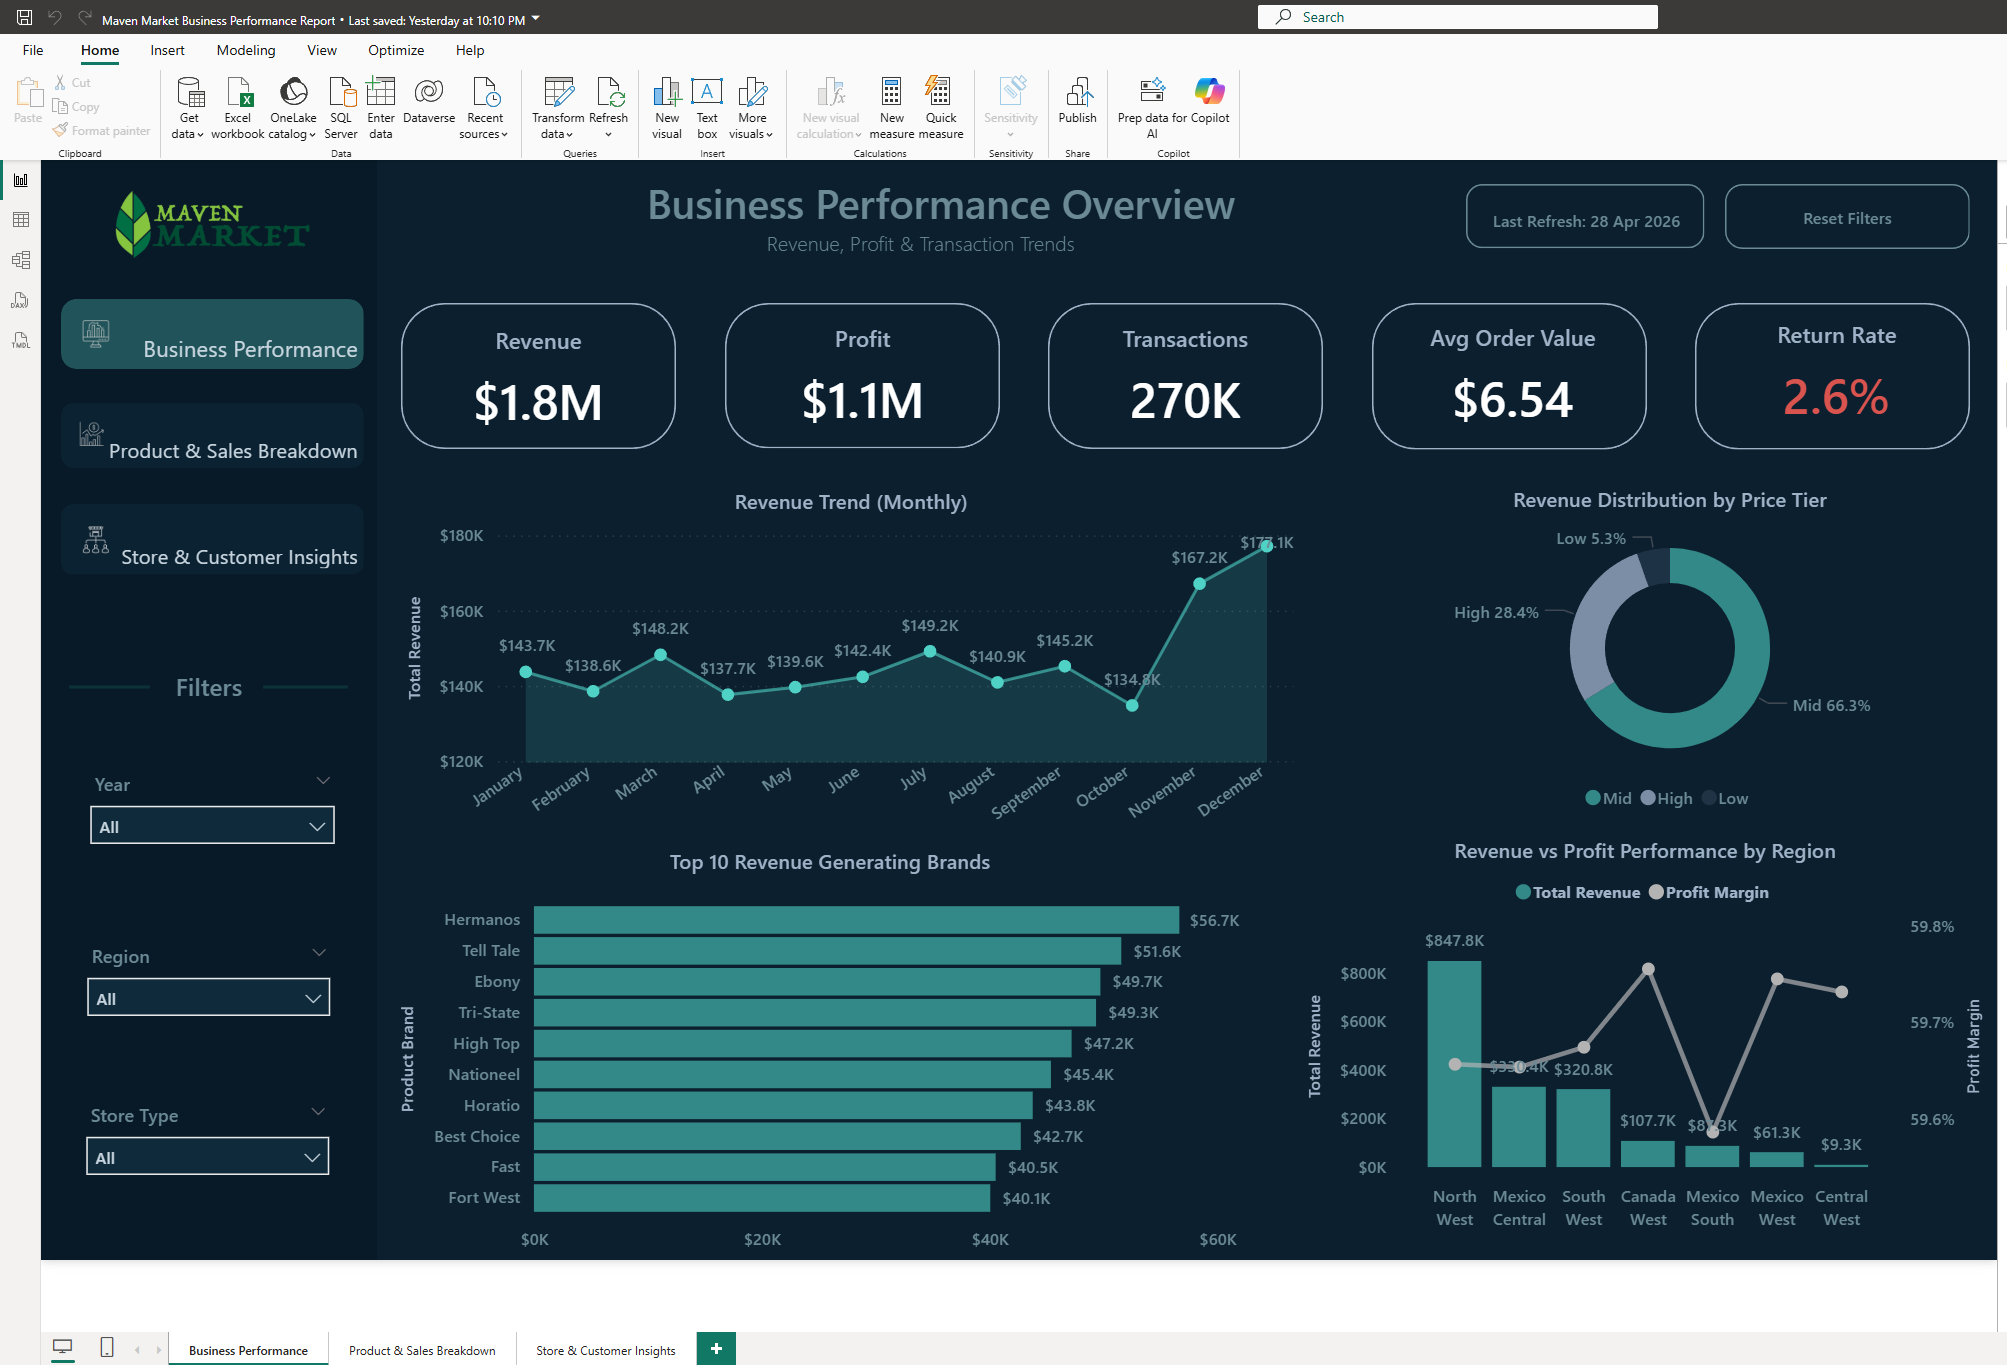

The dashboard page shown, as its layout file describes it:
{"tool":"powerbi","page":{"name":"Business Performance","canvas":[1280,720],"ordinal":0},"visuals":[{"type":"shape","box":[0,0,219.9,719.8],"z":0},{"type":"group","id":"g1","title":"Group 6","box":[447,96.2,180,98.8],"z":0,"group":"g10"},{"type":"shape","box":[867.8,96.7,178.7,96.9],"z":0,"group":"g4"},{"type":"textbox","box":[46.2,328.4,127,39.9],"z":0,"group":"g9"},{"type":"textbox","box":[379.6,7.9,418.8,64.8],"z":1000},{"type":"group","id":"g2","title":"Group 7","box":[661,96.7,178,97.5],"z":1000,"group":"g10"},{"type":"shape","box":[661,96.7,178,97.5],"z":1000,"group":"g2"},{"type":"cardVisual","title":"Transactions","fields":{"Data":["Measures Table.Total Transactions"]},"box":[892.5,110,129.3,71.6],"z":1000,"group":"g4"},{"type":"shape","box":[137.5,332.3,71.3,24.9],"z":1000,"group":"g9"},{"type":"actionButton","title":"Performance Pulse","box":[13.1,91,198.3,45.8],"z":2000},{"type":"group","id":"g3","title":"Group 8","box":[1081.7,96.7,180.6,98.2],"z":2000,"group":"g10"},{"type":"shape","box":[10.5,332.3,68.7,24.9],"z":2000,"group":"g9"},{"type":"shape","box":[235,94.8,180.6,99.5],"z":3000,"group":"g5"},{"type":"shape","box":[447,96.2,180,99.1],"z":3000,"group":"g1"},{"type":"group","id":"g4","title":"Group 5","box":[867.8,96.7,178.7,96.9],"z":3000,"group":"g10"},{"type":"image","box":[27.1,104.7,18.3,18.3],"z":3000},{"type":"actionButton","title":"Performance Pulse","box":[13.1,159,198.3,42.5],"z":3000,"group":"g8"},{"type":"group","id":"g5","title":"Group 9","box":[235,94.8,180.6,99.5],"z":4000,"group":"g10"},{"type":"actionButton","title":"Performance Pulse","box":[13.1,225.1,198.3,46.5],"z":4000,"group":"g7"},{"type":"group","id":"g6","title":"Group 1","box":[10.5,328.4,198.3,39.9],"z":4000},{"type":"image","box":[24.5,170.1,18.3,18.3],"z":5000,"group":"g8"},{"type":"image","box":[27.1,239.5,18.3,18.3],"z":5000,"group":"g7"},{"type":"slicer","fields":{"Values":["Calendar.Year"]},"box":[22.2,394.5,180,60.2],"z":5000},{"type":"group","id":"g7","title":"Group 3","box":[13.1,225.1,198.3,46.5],"z":6000},{"type":"group","id":"g8","title":"Group 4","box":[13.1,159,198.3,42.5],"z":7000},{"type":"slicer","fields":{"Values":["Regions.sales_region"]},"box":[20.3,507,179.3,60.2],"z":8000},{"type":"slicer","fields":{"Values":["Stores.store_type"]},"box":[19.6,611.1,179.3,60.2],"z":9000},{"type":"group","id":"g9","title":"Group 2","box":[10.5,328.4,198.3,39.9],"z":9004,"group":"g6"},{"type":"image","box":[22.2,17,179.3,50.4],"z":10000},{"type":"actionButton","box":[1104,17,158.4,41.2],"z":11000},{"type":"group","id":"g10","title":"Group 10","box":[235,94.8,1027.4,100.3],"z":12000},{"type":"lineChart","title":"Revenue Trend (Monthly)","fields":{"Y":["Measures Table.Total Revenue"],"Category":["Calendar.Start of Month.Variation.Date Hierarchy.Month"]},"box":[235.3,214.7,589.3,228.7],"z":13000},{"type":"donutChart","title":"Revenue Distribution by Price Tier","fields":{"Category":["Products.Price_Tier"],"Y":["Measures Table.Total Revenue"]},"box":[863.1,233,399.2,191.1],"z":14000},{"type":"clusteredBarChart","title":"Top 5 Revenue Generating Brands","fields":{"Category":["Products.product_brand"],"Y":["Measures Table.Total Revenue"]},"box":[235.6,450.2,574.6,176.7],"z":15000},{"type":"cardVisual","title":"Revenue","fields":{"Data":["Measures Table.Total Revenue"]},"box":[260.4,110.6,132.8,76.8],"z":16000,"group":"g5"},{"type":"clusteredColumnChart","title":"Revenue by Region","fields":{"Category":["Regions.sales_region"],"Y":["Measures Table.Total Revenue"]},"box":[825.2,434.5,437.1,263.7],"z":16000},{"type":"cardVisual","fields":{"Data":["Measures Table.Data Period"]},"box":[876.9,15.7,210.7,45.8],"z":17000},{"type":"cardVisual","title":"Profit","fields":{"Data":["Measures Table.Total Profit"]},"box":[483.1,109.9,108.4,72.9],"z":17000,"group":"g1"},{"type":"cardVisual","title":"Profit Margin","fields":{"Data":["Measures Table.Profit Margin"]},"box":[696.9,109.7,107.4,71],"z":18000,"group":"g2"},{"type":"textbox","box":[234.9,641.3,558.9,73.9],"z":18000},{"type":"shape","box":[1081.7,96.7,180.7,97.9],"z":18500,"group":"g3"},{"type":"cardVisual","title":"Return Rate","fields":{"Data":["Measures Table.Return Rate %"]},"box":[1120.6,107.5,109,71.4],"z":19000,"group":"g3"}]}

Visuals, with their boxes on the page's 1280x720 design canvas (x1, y1, x2, y2). These are canvas units, not pixel positions in the 2007x1365 screenshot, which may show the page scaled, cropped or inside an application window:
shape: (0, 0, 220, 720)
"Group 6" group: (447, 96, 627, 195)
shape: (868, 97, 1046, 194)
textbox: (46, 328, 173, 368)
textbox: (380, 8, 798, 73)
"Group 7" group: (661, 97, 839, 194)
shape: (661, 97, 839, 194)
"Transactions" cardVisual: (892, 110, 1022, 182)
shape: (138, 332, 209, 357)
"Performance Pulse" actionButton: (13, 91, 211, 137)
"Group 8" group: (1082, 97, 1262, 195)
shape: (10, 332, 79, 357)
shape: (235, 95, 416, 194)
shape: (447, 96, 627, 195)
"Group 5" group: (868, 97, 1046, 194)
image: (27, 105, 45, 123)
"Performance Pulse" actionButton: (13, 159, 211, 202)
"Group 9" group: (235, 95, 416, 194)
"Performance Pulse" actionButton: (13, 225, 211, 272)
"Group 1" group: (10, 328, 209, 368)
image: (24, 170, 43, 188)
image: (27, 240, 45, 258)
slicer - Calendar.Year: (22, 394, 202, 455)
"Group 3" group: (13, 225, 211, 272)
"Group 4" group: (13, 159, 211, 202)
slicer - Regions.sales_region: (20, 507, 200, 567)
slicer - Stores.store_type: (20, 611, 199, 671)
"Group 2" group: (10, 328, 209, 368)
image: (22, 17, 202, 67)
actionButton: (1104, 17, 1262, 58)
"Group 10" group: (235, 95, 1262, 195)
"Revenue Trend (Monthly)" lineChart: (235, 215, 825, 443)
"Revenue Distribution by Price Tier" donutChart: (863, 233, 1262, 424)
"Top 5 Revenue Generating Brands" clusteredBarChart: (236, 450, 810, 627)
"Revenue" cardVisual: (260, 111, 393, 187)
"Revenue by Region" clusteredColumnChart: (825, 434, 1262, 698)
cardVisual - Measures Table.Data Period: (877, 16, 1088, 62)
"Profit" cardVisual: (483, 110, 592, 183)
"Profit Margin" cardVisual: (697, 110, 804, 181)
textbox: (235, 641, 794, 715)
shape: (1082, 97, 1262, 195)
"Return Rate" cardVisual: (1121, 108, 1230, 179)
